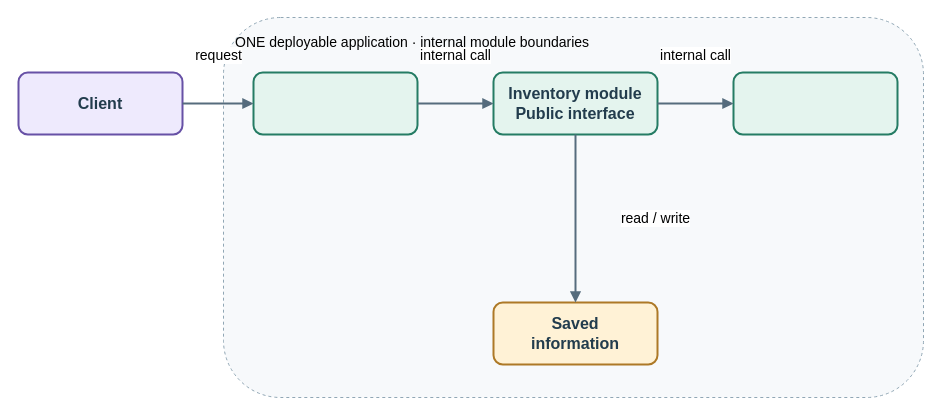
The diagram is 941 pixels wide and 415 high, and some of its shapes have lost their labels. The box of each missing label's shape, as (x1, y1, x2, y2) in pixels:
Orders module Public interface: (252, 71, 418, 135)
Payments module Public interface: (732, 71, 898, 135)
